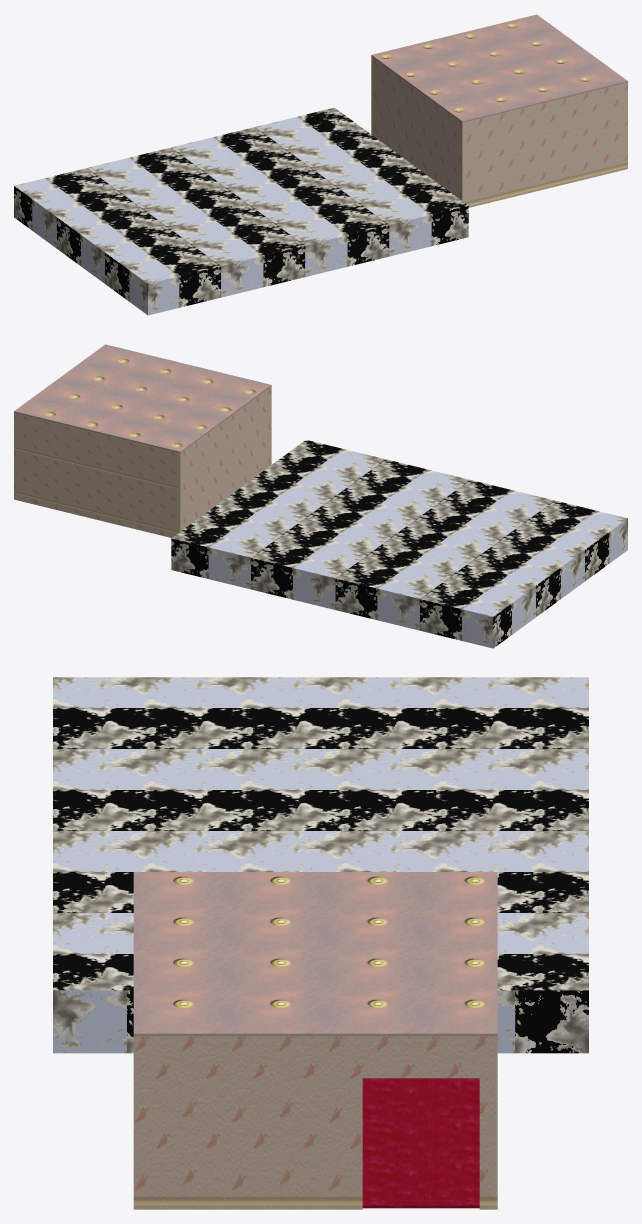
The model's file is intro16_brush.glb.
The picture shows the model from 3 angles, top to bottom: view 1: azimuth 30°, elevation 25°; view 2: azimuth 150°, elevation 25°; view 3: azimuth 270°, elevation 25°; orthographic projection. The views are drawn at different scales.
Parts seen in each view (by area): view 1: intro16; view 2: intro16; view 3: intro16.
Part boxes in pixels (x1,y1,x2,y2): intro16: (14, 14, 627, 315); intro16: (14, 344, 627, 648); intro16: (53, 677, 588, 1209).
Bounding box in the file's own units: 1523 × 284 × 707.
6 materials, 6 textured.
